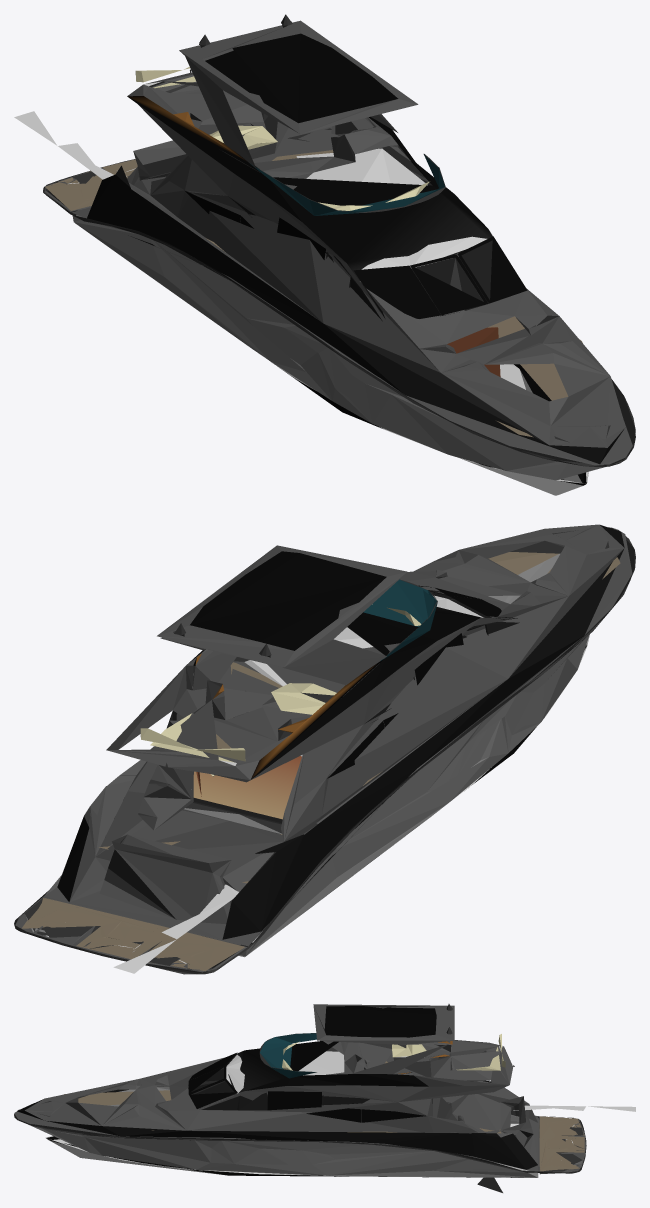
Rendered from lux-yacht.lod2.glb.
3 renders of one model, top to bottom at view 1: azimuth 30°, elevation 25°; view 2: azimuth 150°, elevation 25°; view 3: azimuth 270°, elevation 25°, orthographic. The views are drawn at different scales.
Visible parts, largest first — view 1: Object_4; view 2: Object_4; view 3: Object_4.
Boxes of the visible parts, x1,y1,x2,y2 form: Object_4: (14, 14, 635, 495); Object_4: (14, 524, 635, 974); Object_4: (14, 1004, 635, 1192).
Size of the model in its own units: 8.49 by 11.74 by 39.04.
